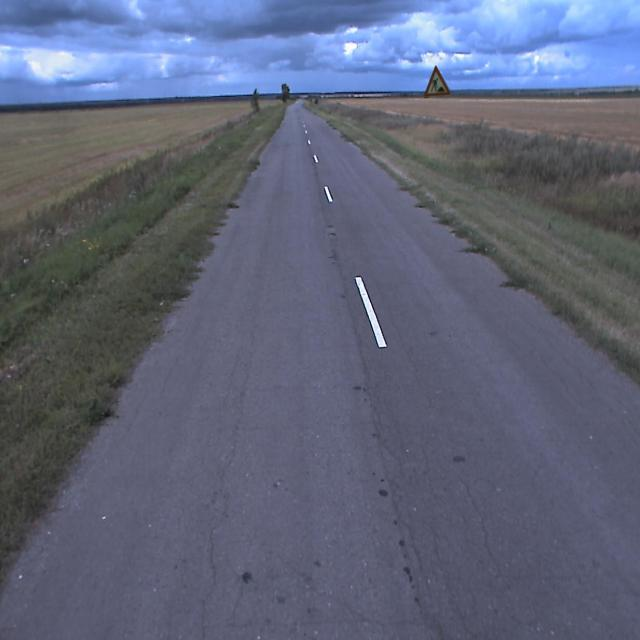road: (0, 105, 639, 639)
